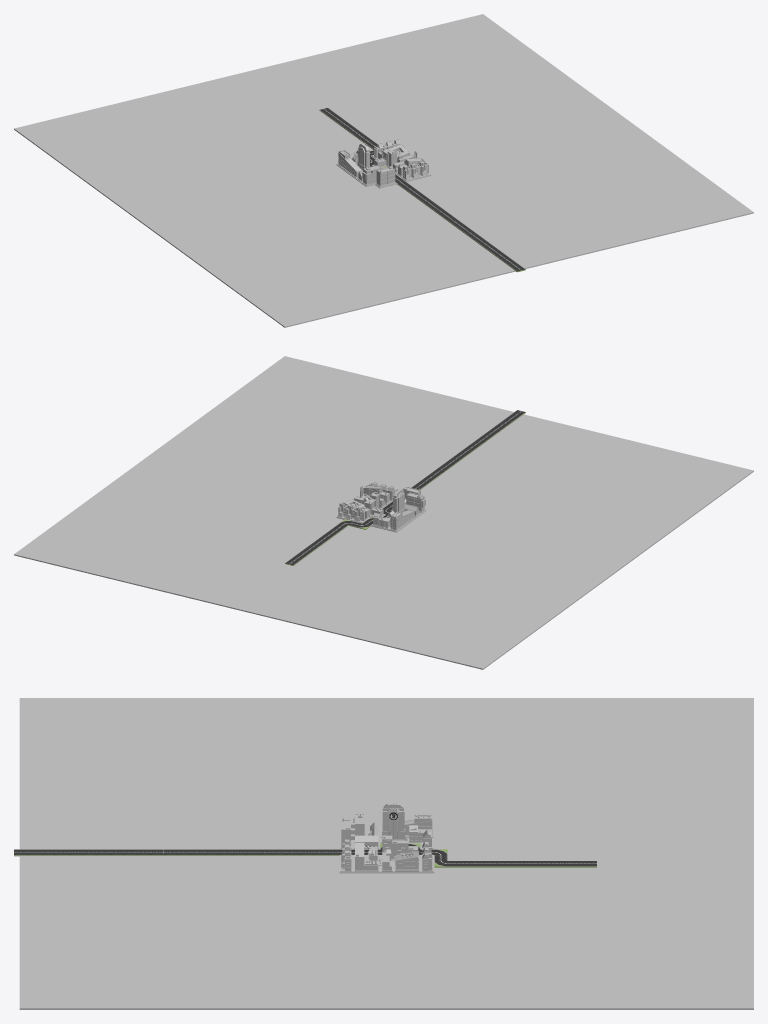
The model's file is MenuScreen.FBX.
3 renders of one model, top to bottom at view 1: azimuth 30°, elevation 25°; view 2: azimuth 150°, elevation 25°; view 3: azimuth 270°, elevation 25°, orthographic. The views are drawn at different scales.
Parts seen in each view (by area): view 1: Underground, City, Road; view 2: Underground, City, Road; view 3: Underground, City, Road, HQ.
Part boxes in pixels (bbox=[...]): Underground: bbox=[14, 14, 753, 327]; City: bbox=[336, 139, 431, 188]; Road: bbox=[319, 108, 525, 272]; Underground: bbox=[14, 356, 753, 669]; City: bbox=[336, 482, 426, 532]; Road: bbox=[285, 410, 525, 565]; Underground: bbox=[19, 698, 753, 1009]; City: bbox=[339, 813, 434, 873]; Road: bbox=[14, 849, 596, 867]; HQ: bbox=[380, 803, 407, 843].
Size of the model in its own units: 54.22 by 3.25 by 54.64.
